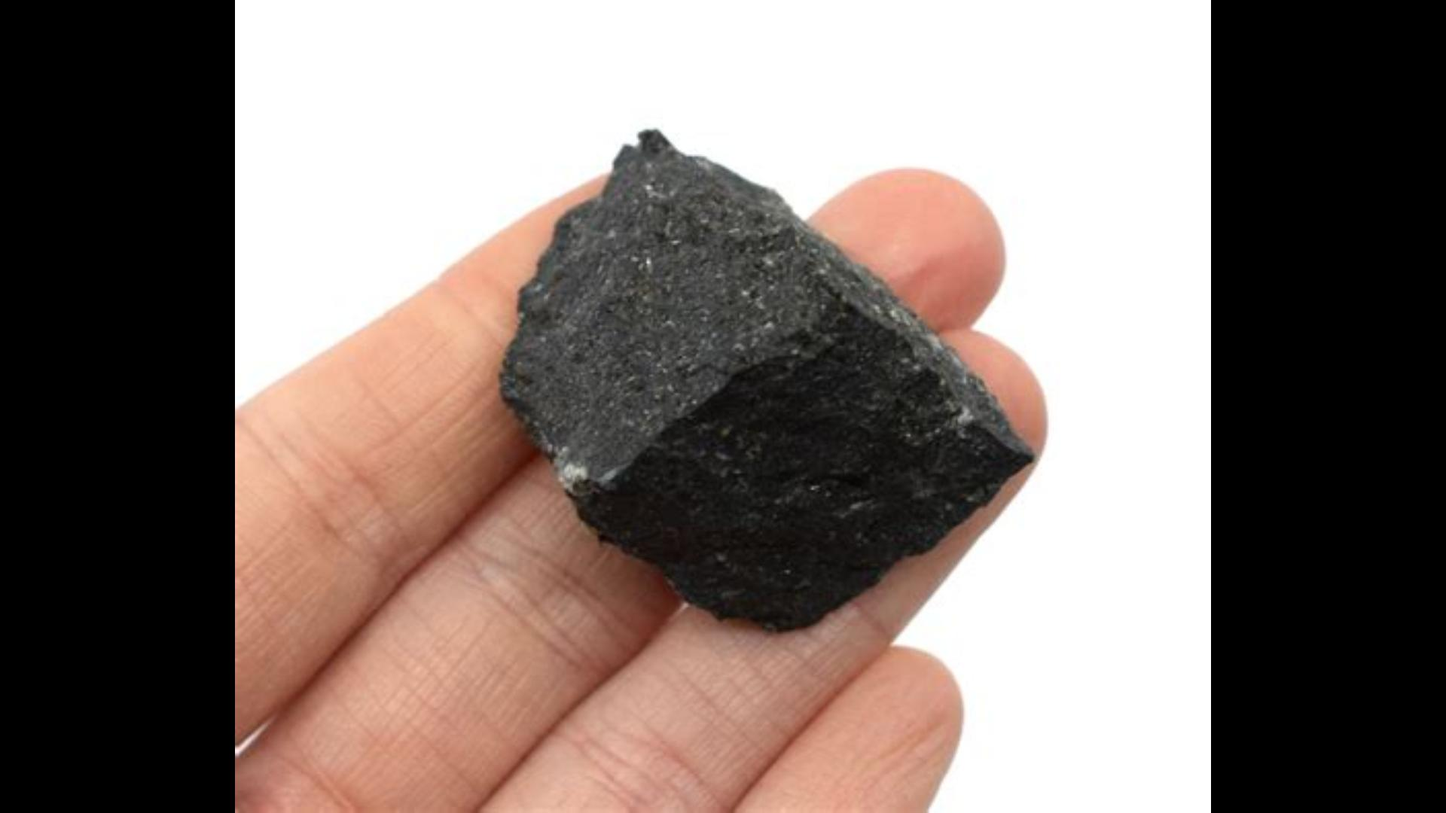rock: (503, 132, 1028, 628)
